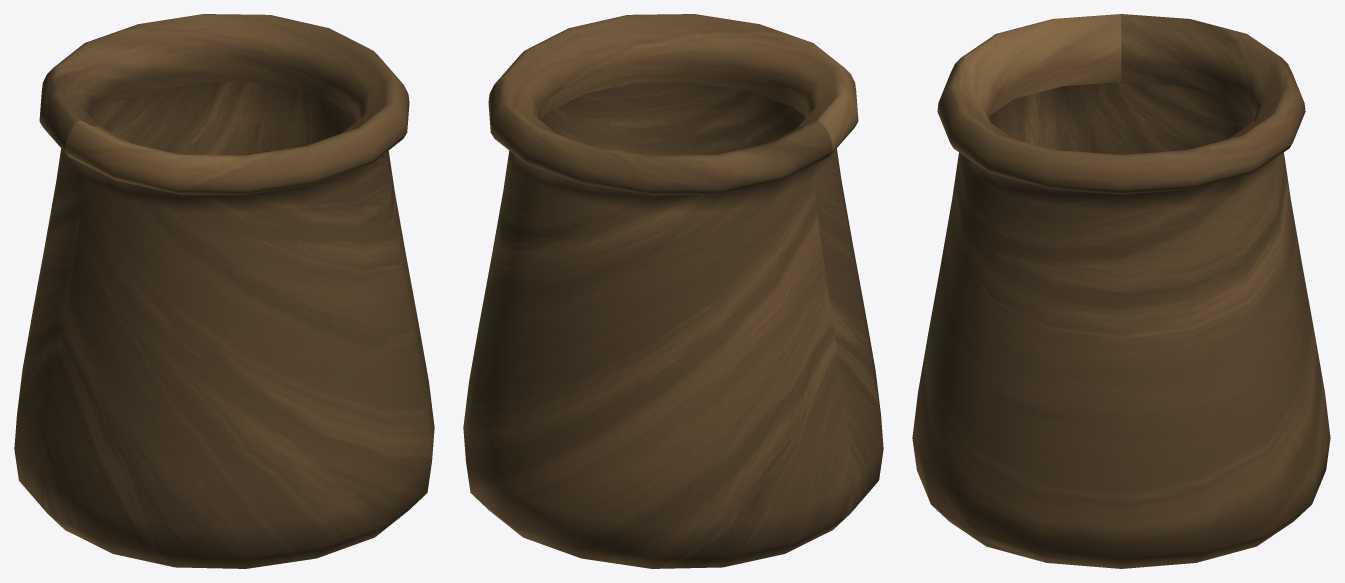
Rendered from JarroGrande.fbx.
The picture shows the model from 3 angles, left to right: view 1: azimuth 30°, elevation 25°; view 2: azimuth 150°, elevation 25°; view 3: azimuth 270°, elevation 25°; orthographic projection.
Visible parts, largest first — view 1: JarroGrande; view 2: JarroGrande; view 3: JarroGrande.
Boxes of the visible parts, x1,y1,x2,y2 form: JarroGrande: (14,14,434,568); JarroGrande: (463,14,883,568); JarroGrande: (912,14,1330,568).
Size of the model in its own units: 32.97 by 37.29 by 32.97.
1 material, 1 textured.
